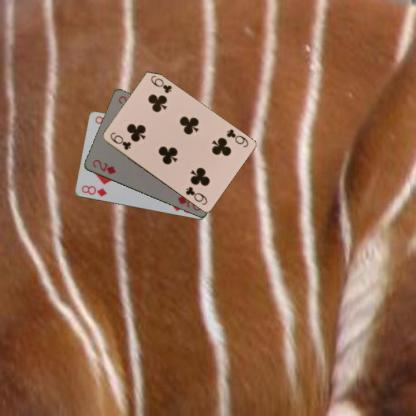2d: (90, 157, 116, 176)
6c: (224, 126, 250, 148), (107, 130, 132, 152)
8d: (79, 182, 108, 198)
